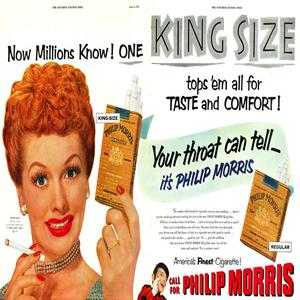cigarette: (1, 238, 46, 262)
